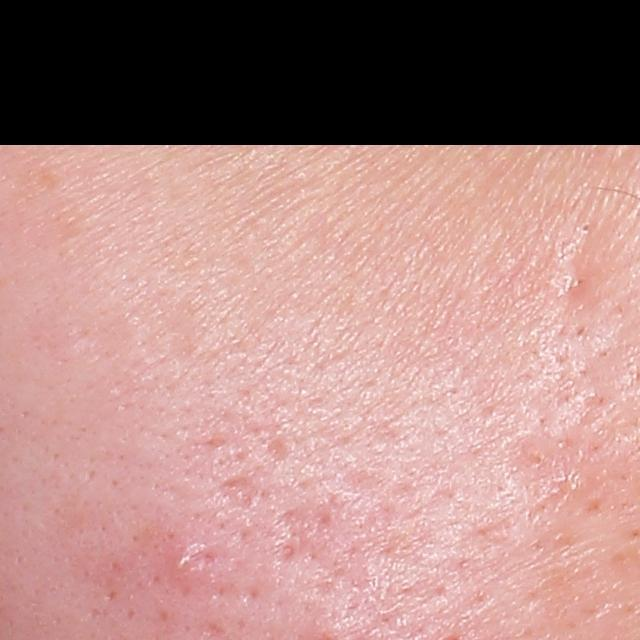atrophic_scar: (503, 429, 580, 505), (272, 498, 346, 556), (205, 470, 266, 517), (551, 251, 594, 311), (265, 436, 293, 469)
papule: (167, 542, 203, 583)
